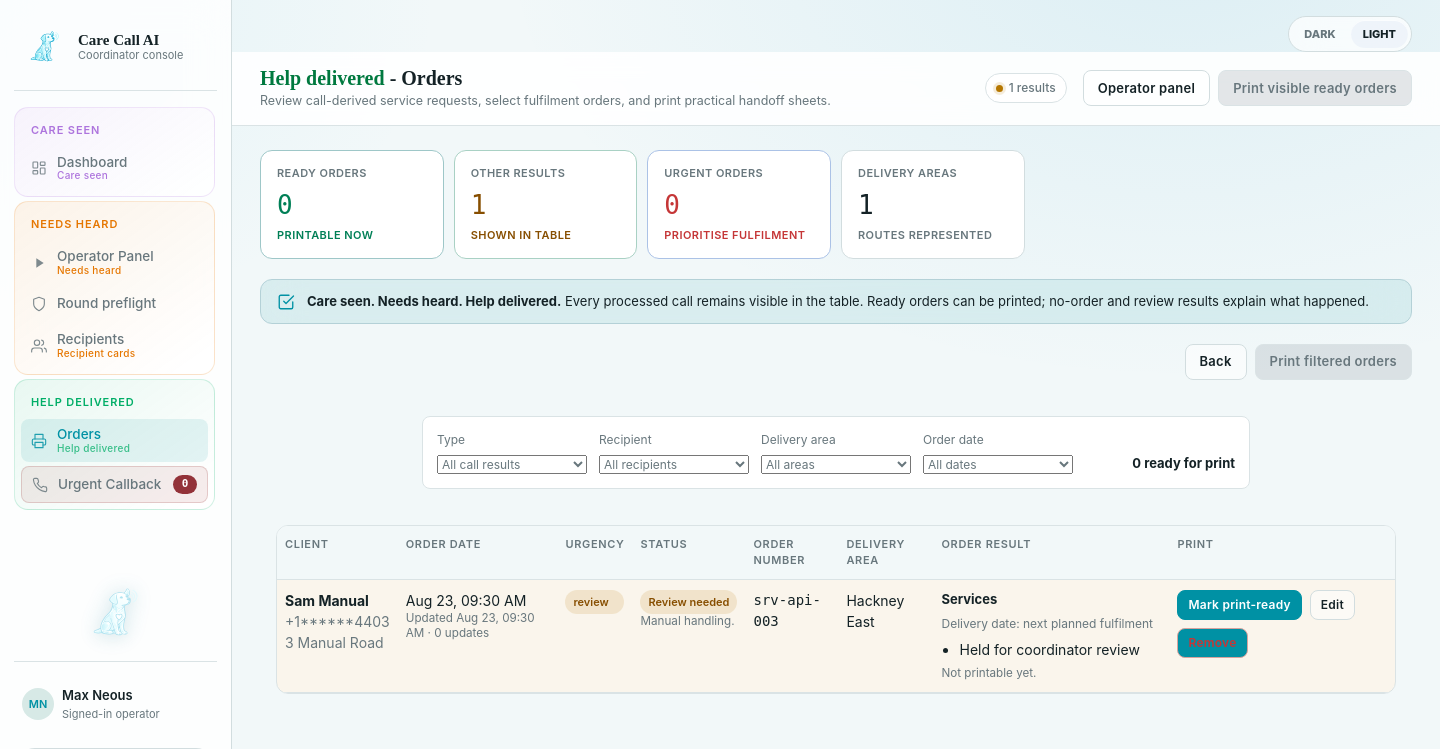
PrintableOrderSheet › lets an operator correct a held review result into a printable grocery order
This screenshot has width=1440, height=749.
Click the button "Edit" at (1332, 605), box [1310, 590, 1355, 620]
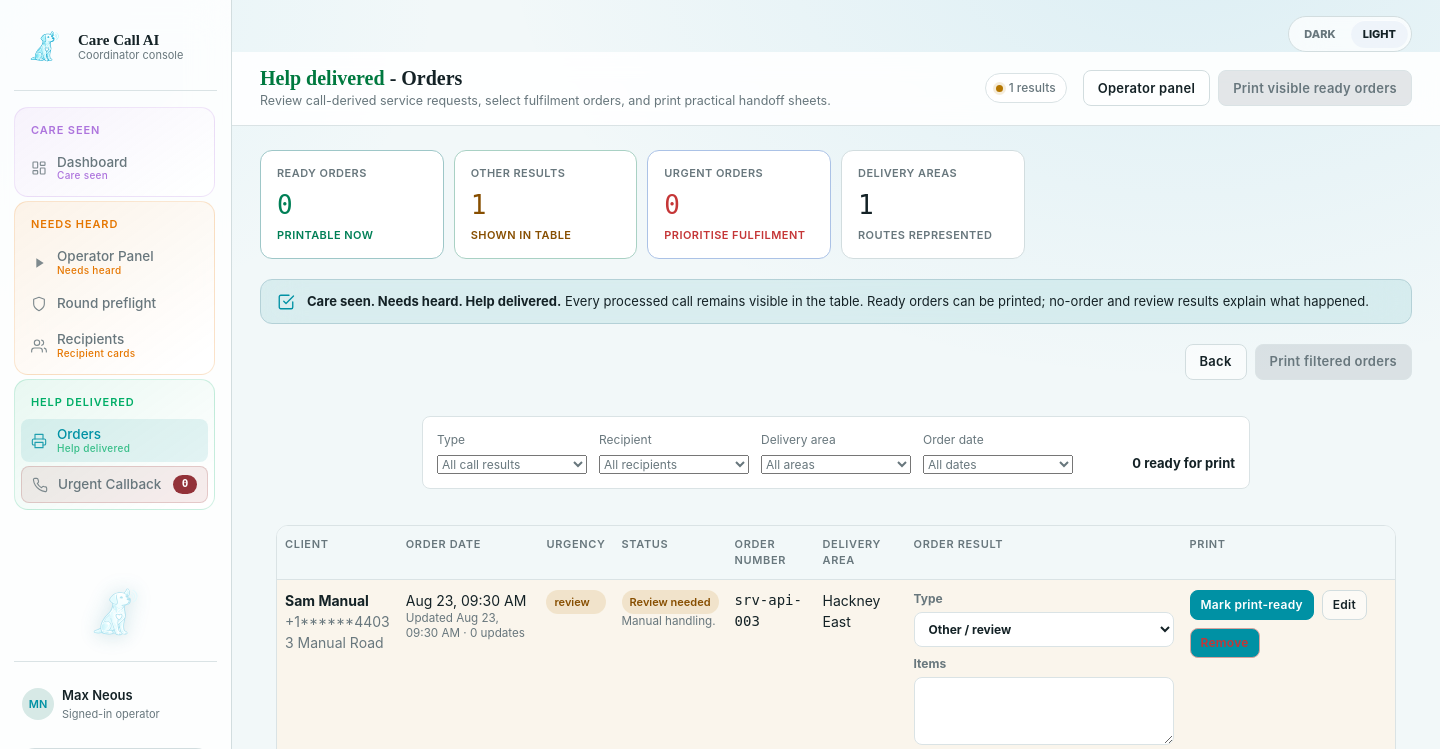
Type "1 package of bread" into the text box labelled "Items" at (1044, 711), box [914, 677, 1174, 745]
(page scrolled)
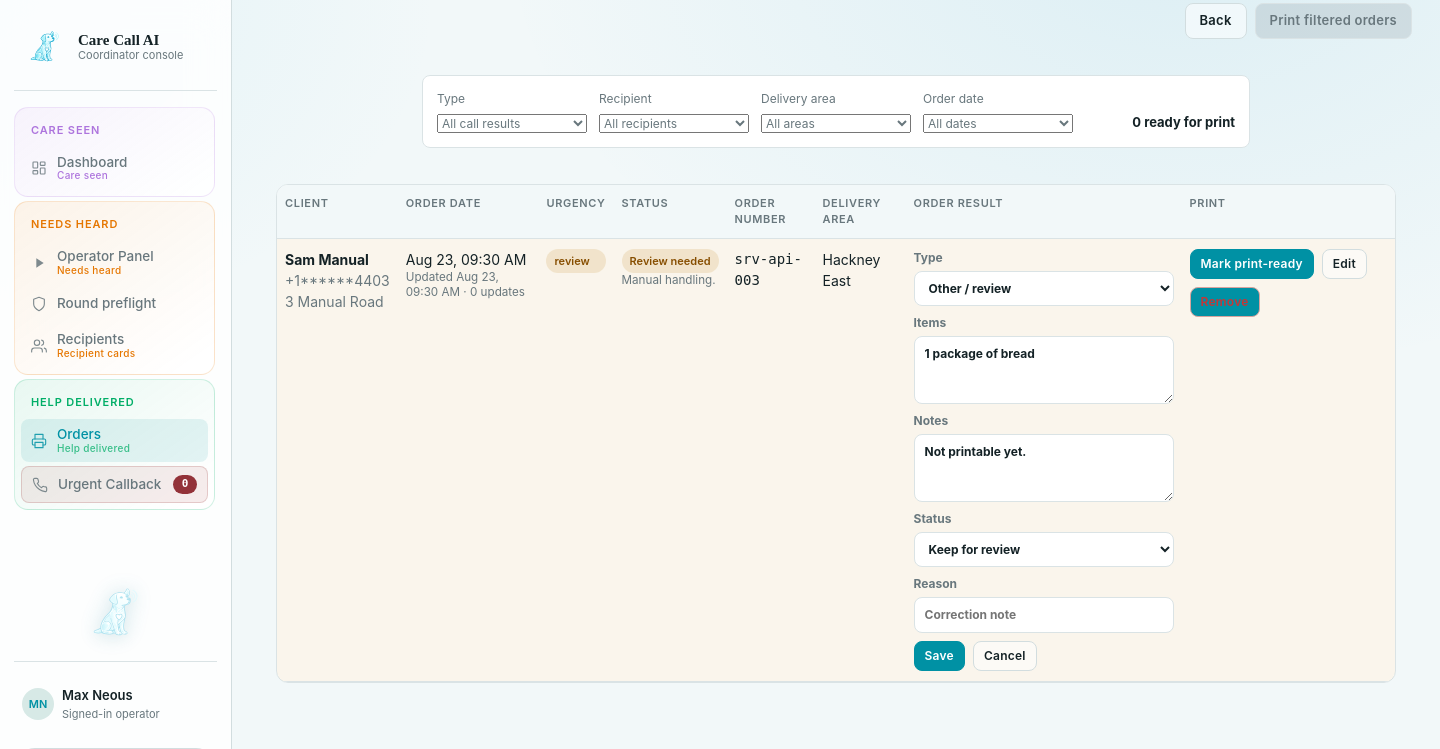
Replace the text in the text box labelled "Notes" with "Corrected from callback transcript." at (1044, 468), box [914, 434, 1174, 502]
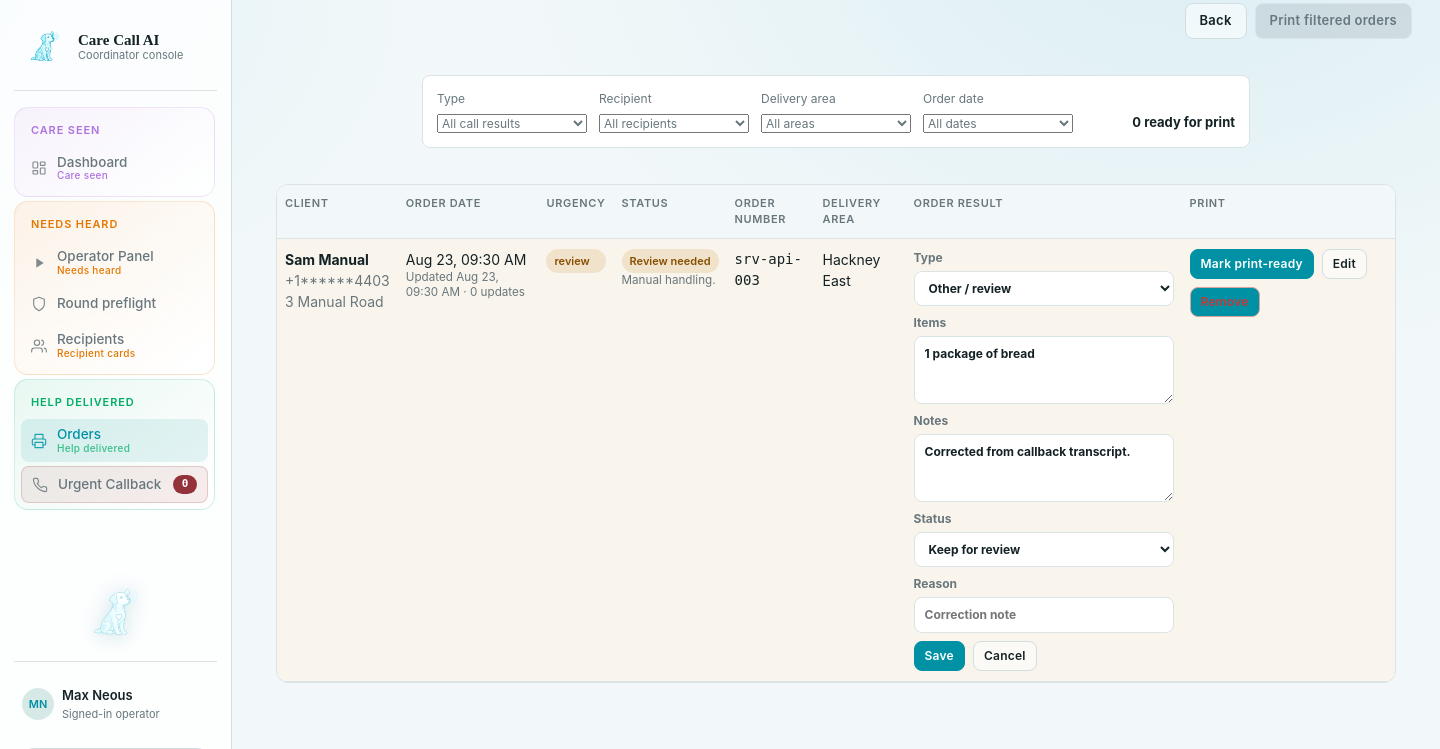
Type "Callback result corrected." into the field labelled "Reason" at (1044, 615), box [914, 597, 1174, 633]
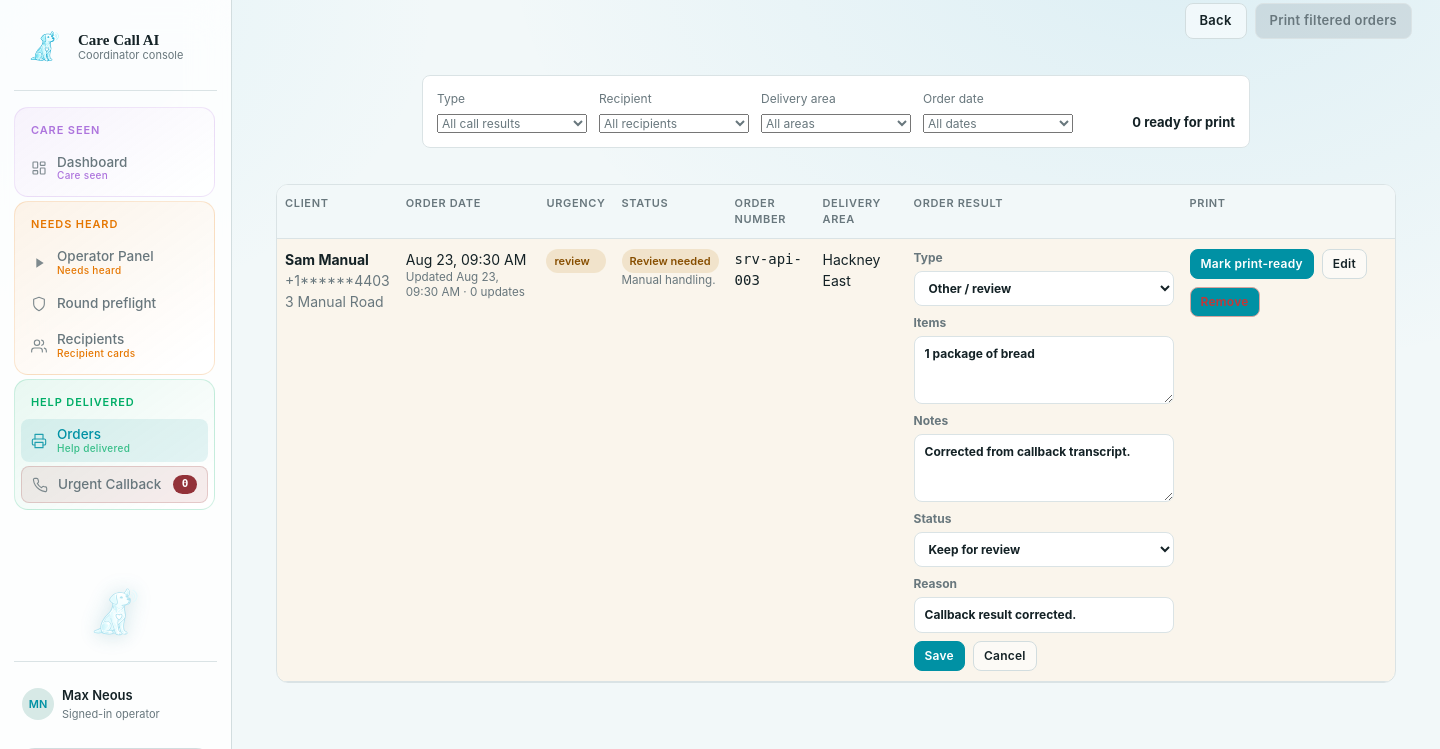
Select "Ready to print" in the dropdown showing "Keep for review" at (1044, 549), box [914, 532, 1174, 567]
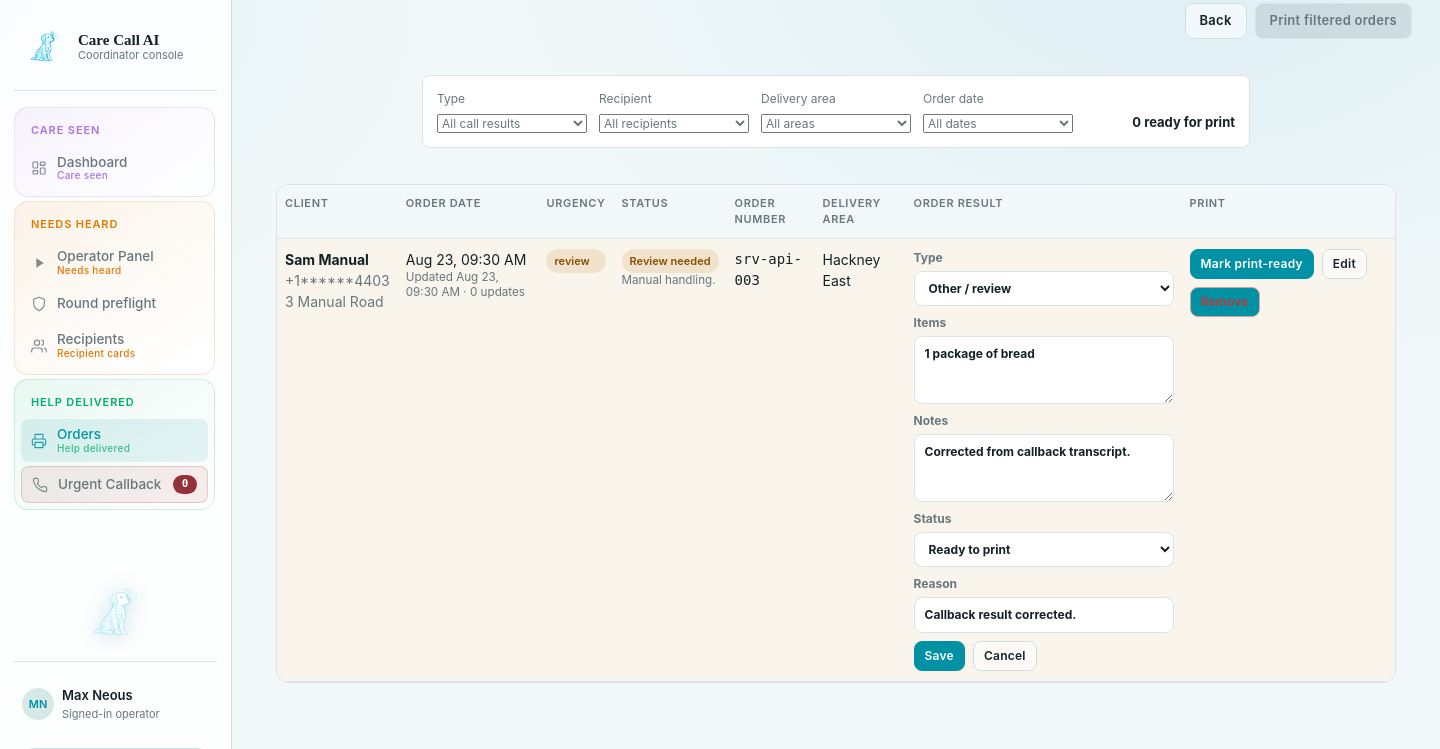
Click the button "Save" at (939, 656), box [914, 641, 965, 671]
(page scrolled)
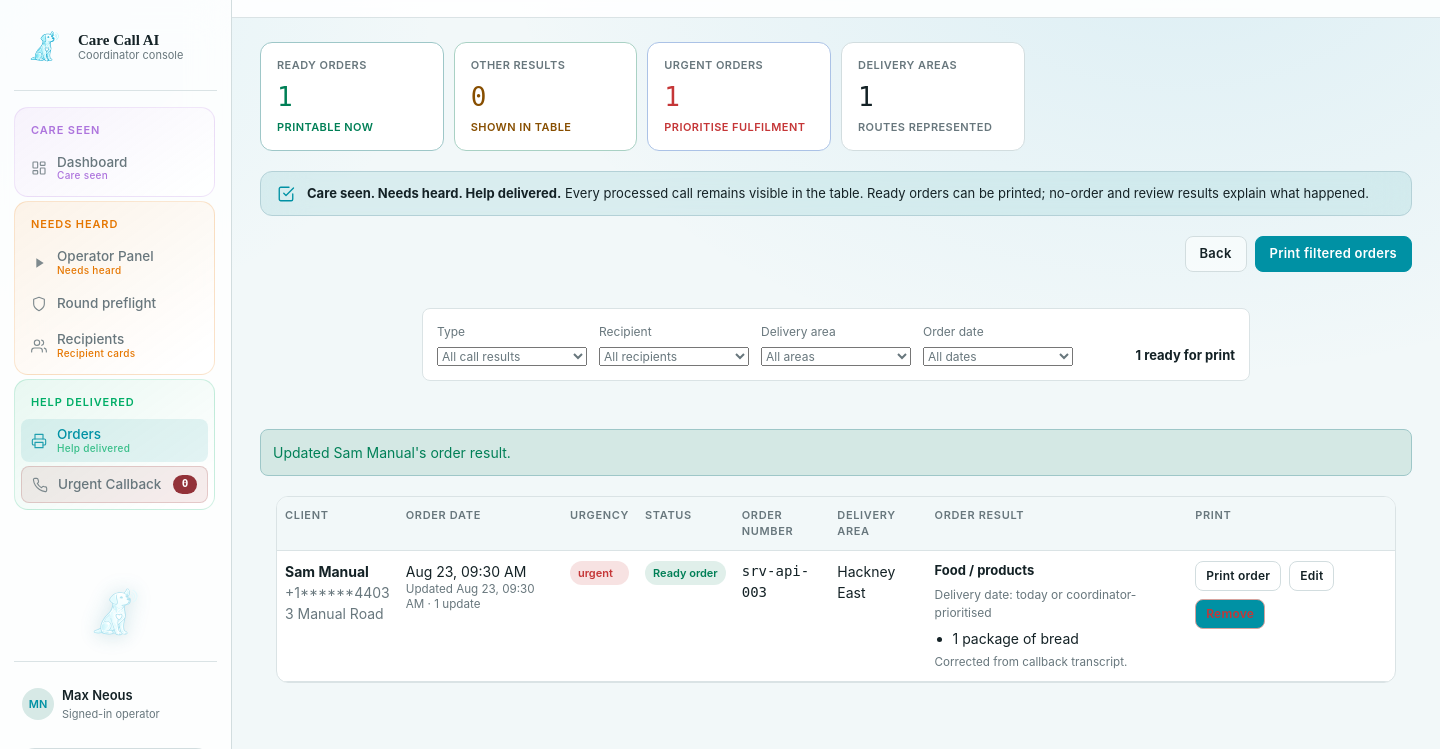
Result: the text "Ready order" is shown at [645, 561, 726, 585]
